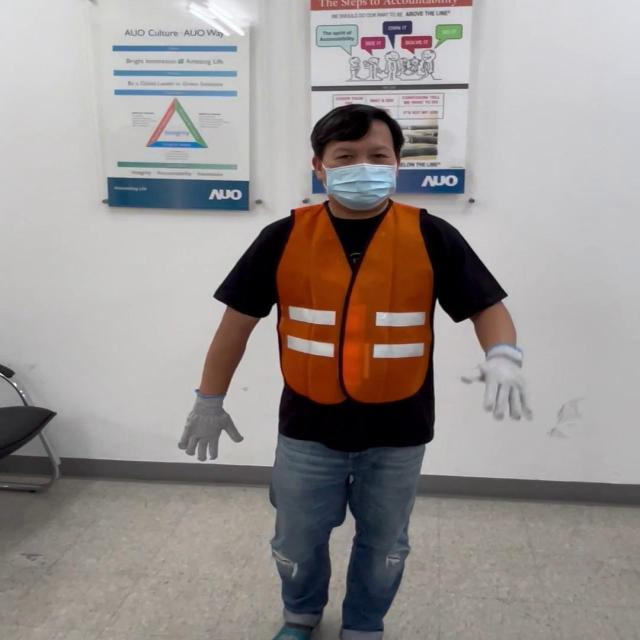gloved_hand: (457, 338, 535, 424), (181, 389, 243, 455)
